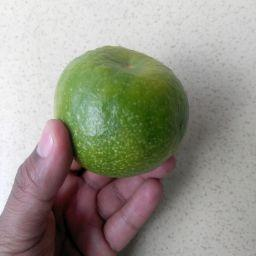Unripe: (67, 47, 186, 161)
